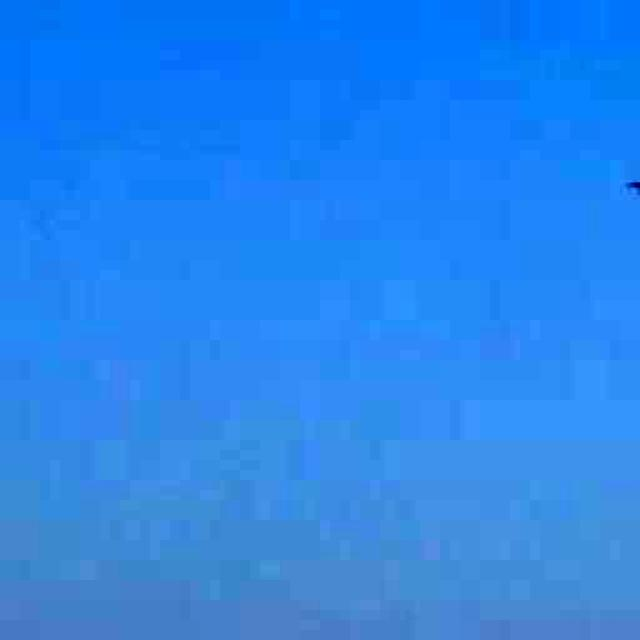bird: (609, 130, 640, 228)
